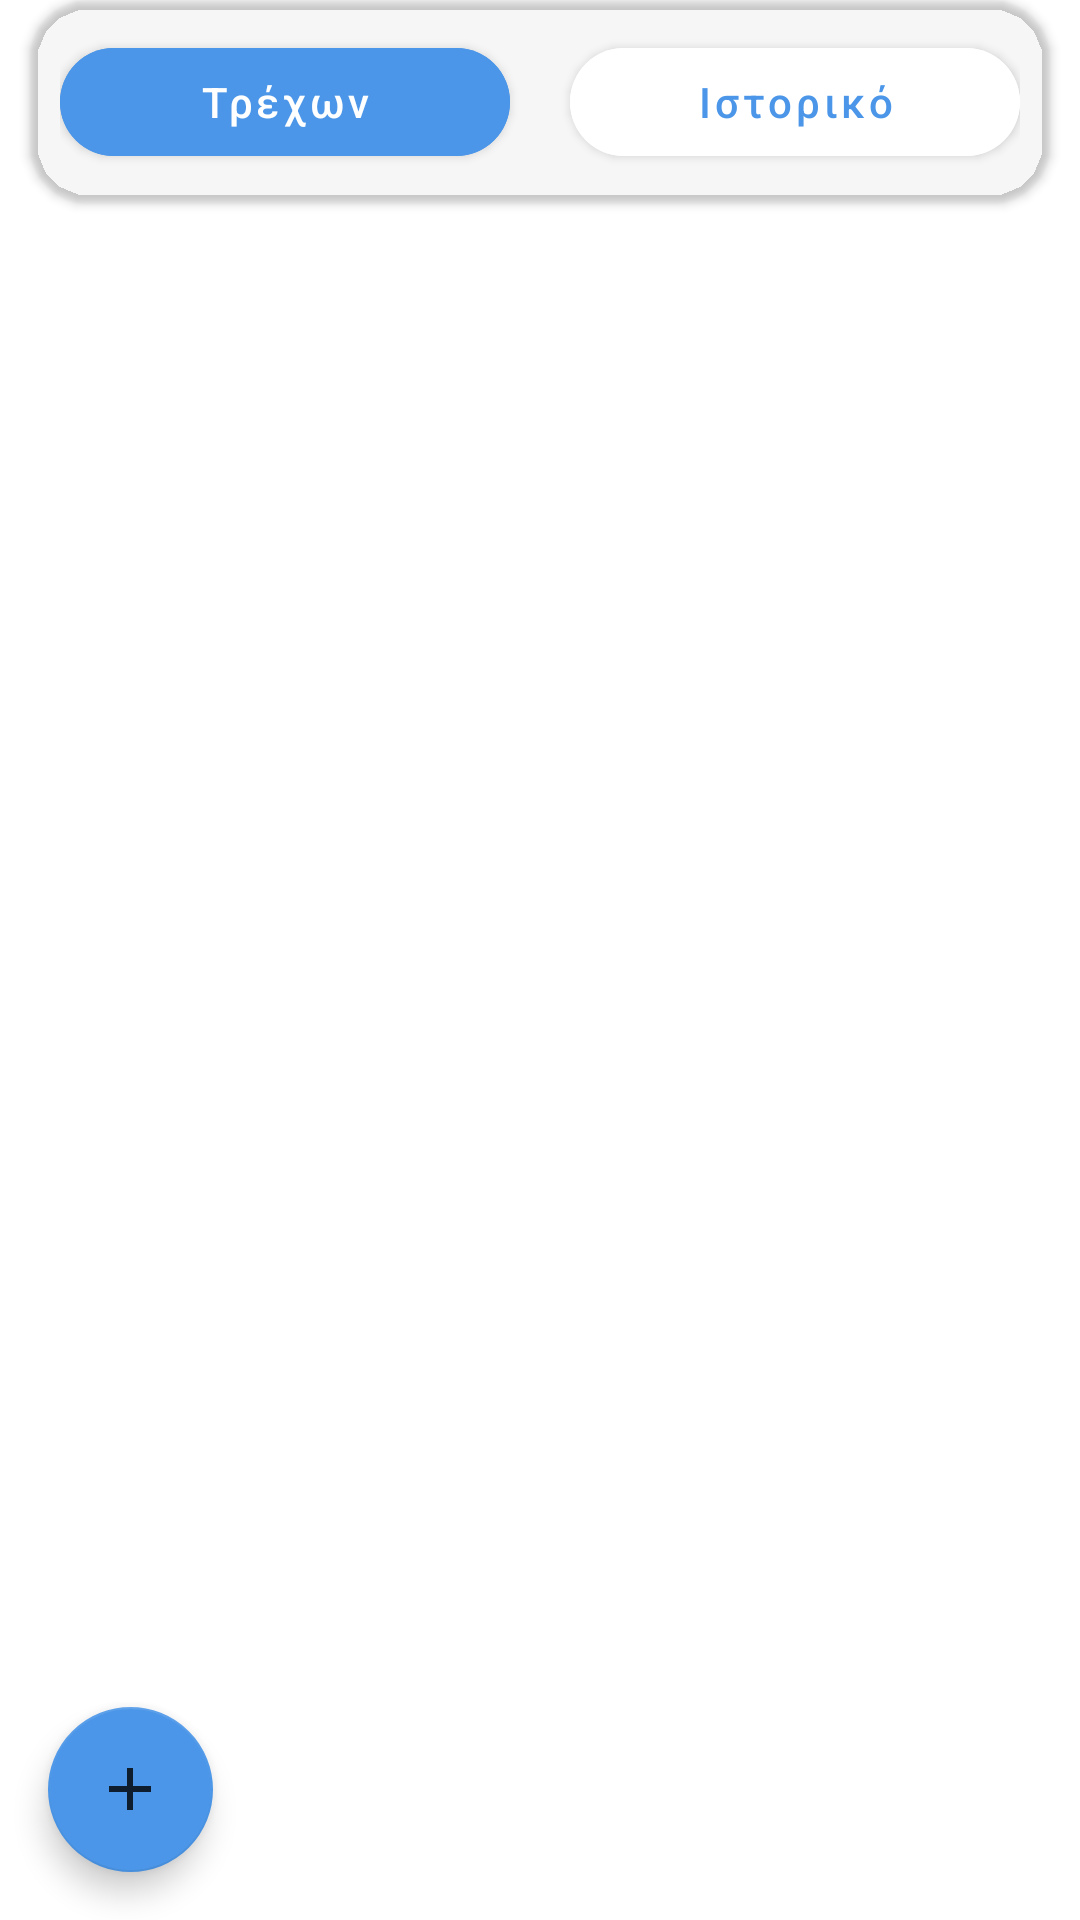

Icons on this 1080px x 1920px Android screen, each with the point to tap as (x,y):
plus: (130,1789)
